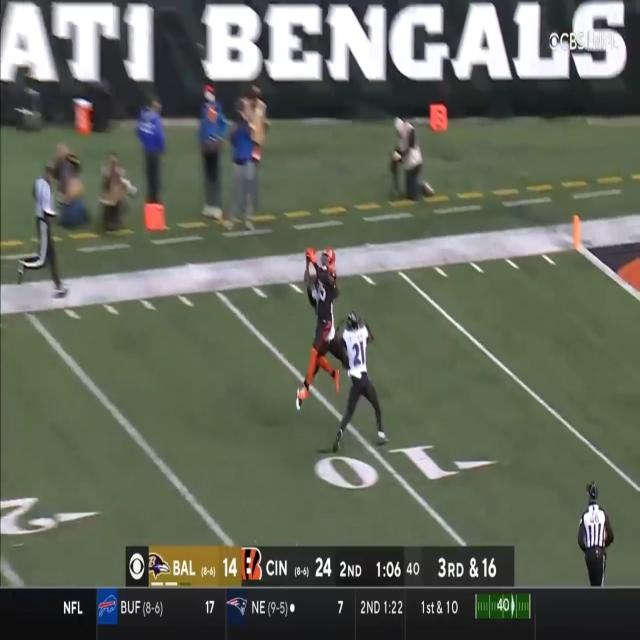Ball: (305, 246, 318, 264)
